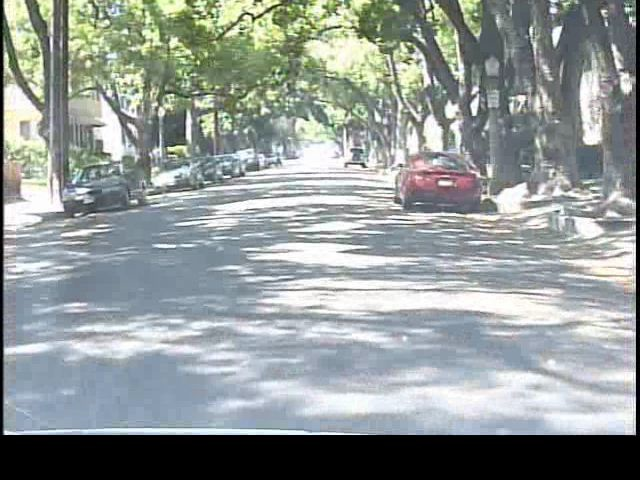person: (140, 144, 160, 186)
